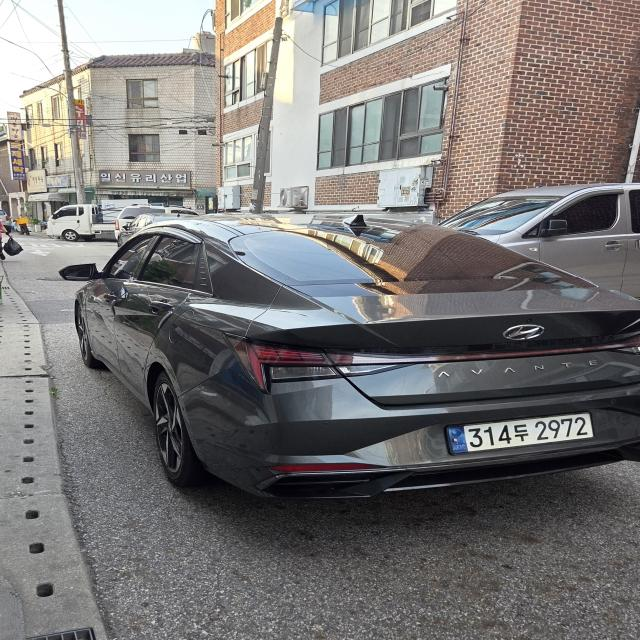car: (70, 216, 610, 482), (114, 209, 206, 249)
